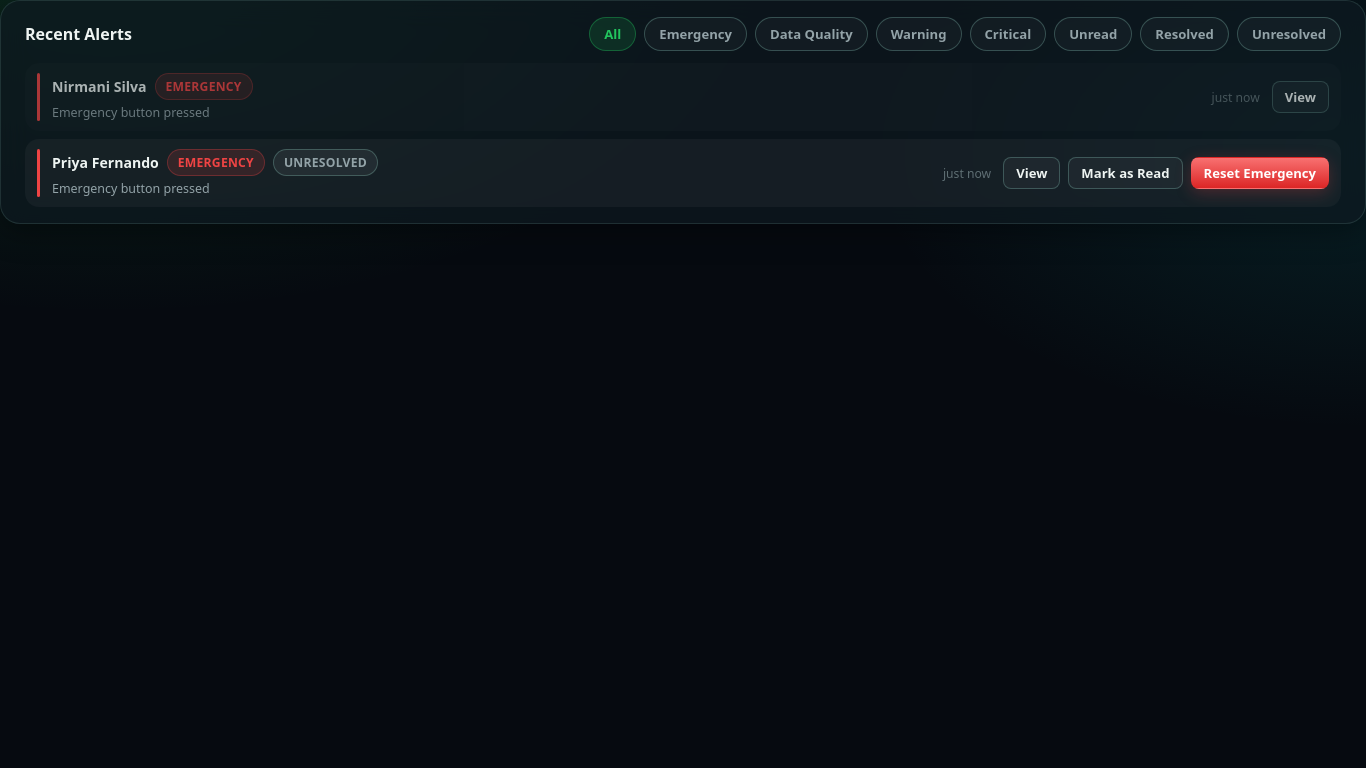
RecentAlertsCard › Reset Emergency only shows for an unresolved EMERGENCY alert, and confirming requests a reset
Expected: the text "Priya Fernando" is shown, [52,153,159,172]
Click the button "Reset Emergency": [1260, 173] box [1191,157,1329,189]
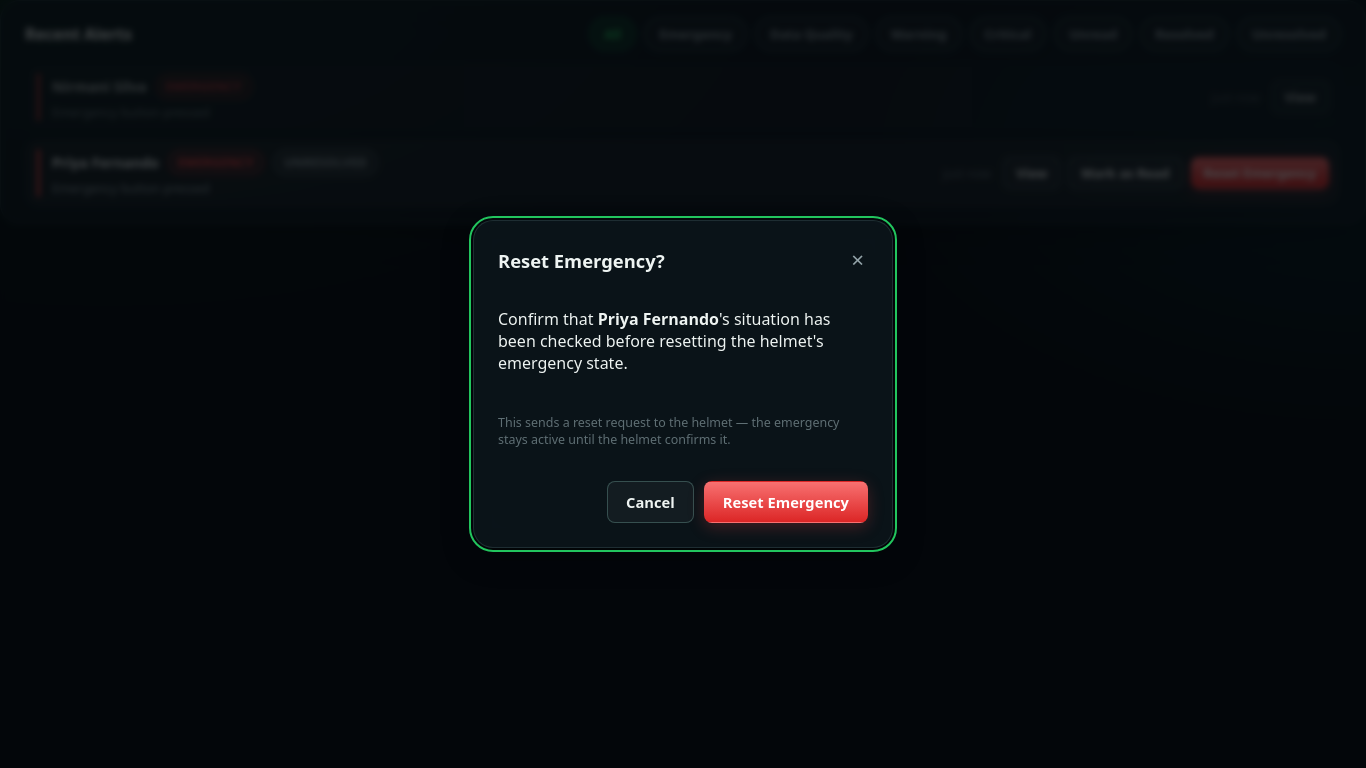
Now the heading "Reset Emergency?" is shown, box [498,248,665,273]
Click the button "Reset Emergency": [786, 502] box [704,481,868,523]
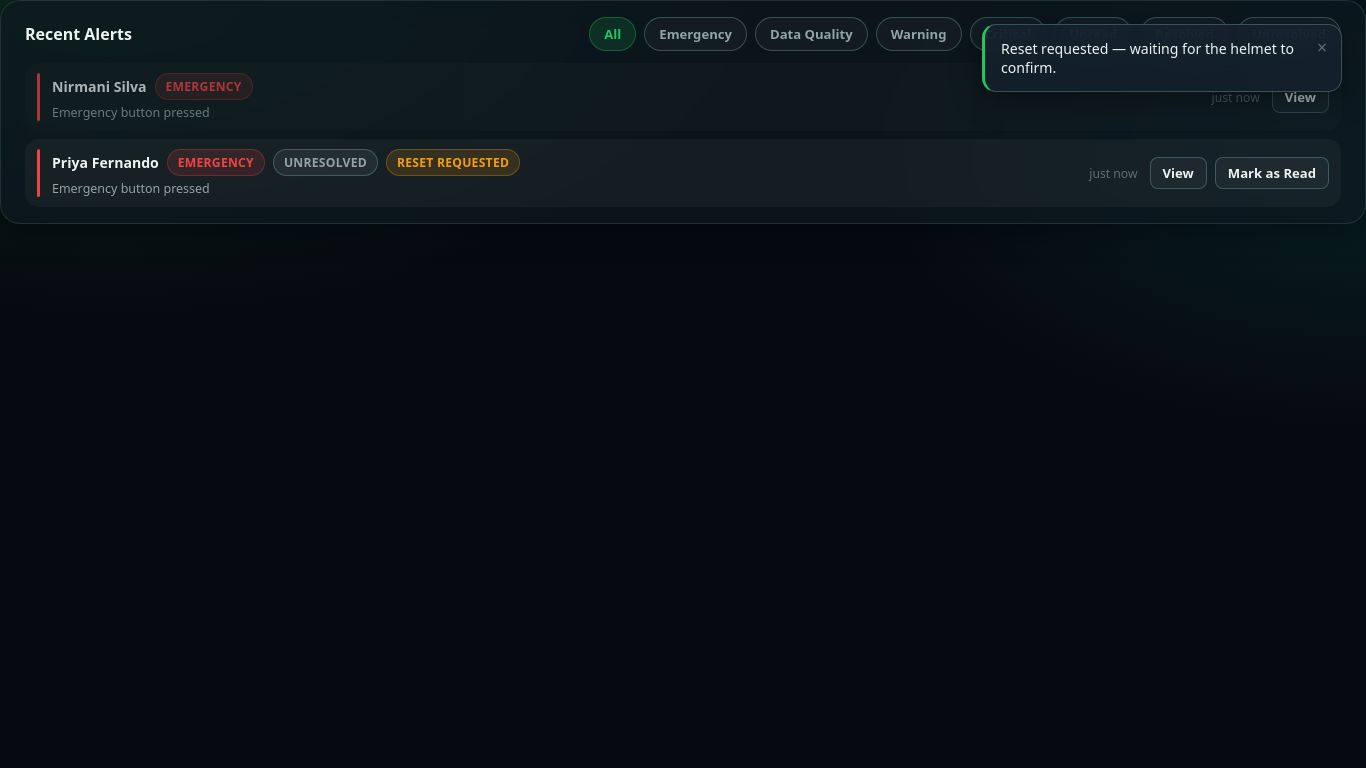
Now the text "Reset requested" is shown, box [386,149,520,176]
